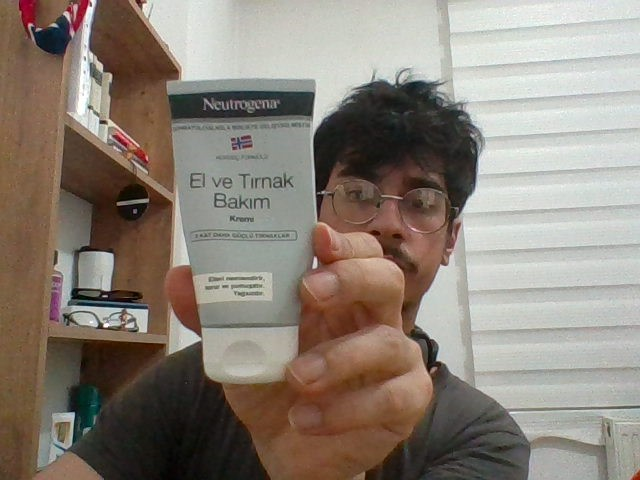Neutrogena: (165, 79, 316, 380)
